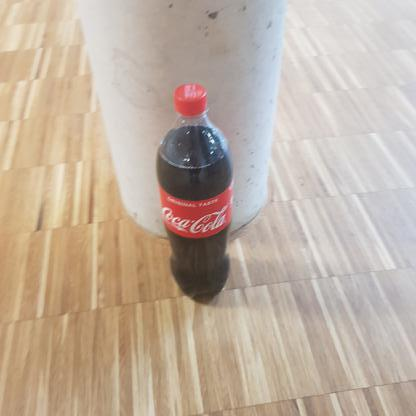coca-cola: (153, 81, 236, 304)
